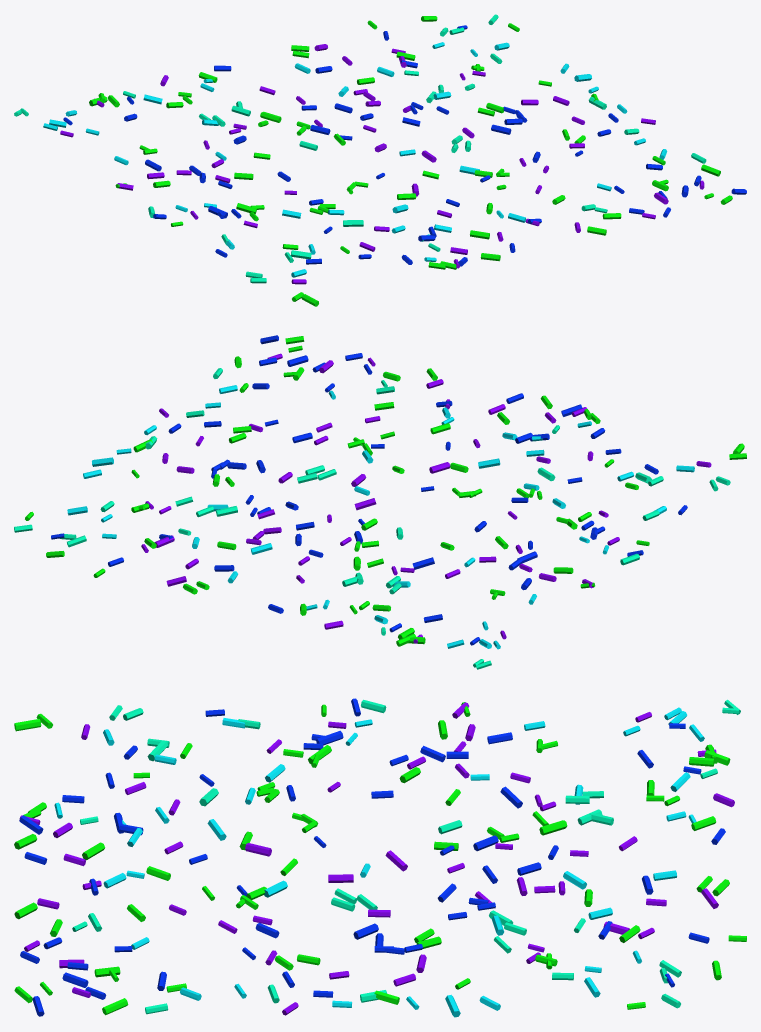
File: confetti-bot-2-all.fbx
3 views of the same model, one above another, from view 1: azimuth 30°, elevation 25°; view 2: azimuth 150°, elevation 25°; view 3: azimuth 270°, elevation 25° (orthographic). The views are drawn at different scales.
Parts seen in each view (by area): view 1: Confetti_2_1; view 2: Confetti_2_1; view 3: Confetti_2_1.
Boxes of the visible parts, bbox=[...] form: Confetti_2_1: bbox=[14, 14, 746, 306]; Confetti_2_1: bbox=[14, 335, 746, 669]; Confetti_2_1: bbox=[14, 698, 746, 1017].
Bounding box in the file's own units: 512 × 10.54 × 511.
